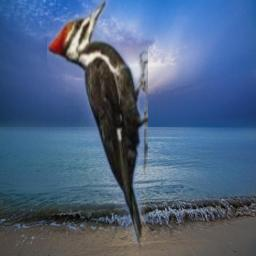Woodpecker: (47, 0, 148, 256)
